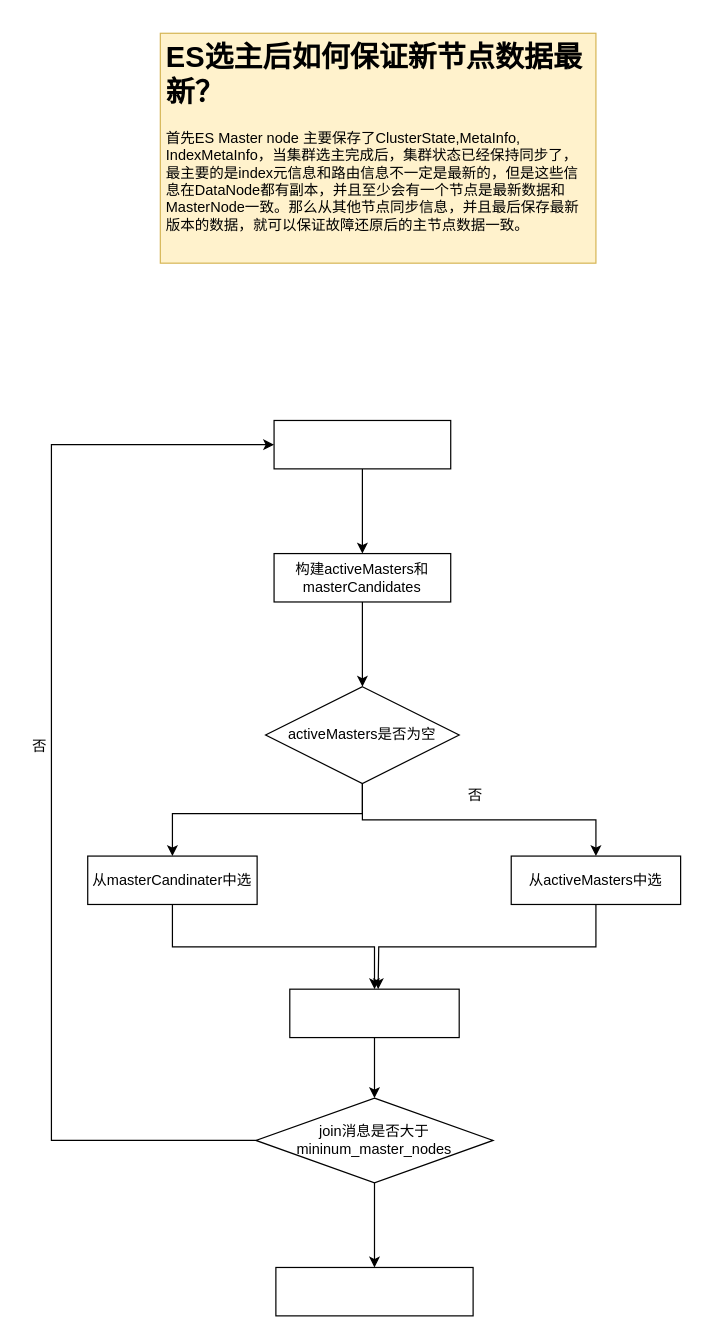
Some shapes in this 702 by 1337 pixel diagram are drawn without their labels. The shapes that lost their labels are listed below. From the top down, each one's box as (x1, y1, x2, y2) in pixels, then its label:
(273, 419, 451, 469): 执行Ping操作，获取节点列表
(289, 988, 459, 1038): 投票通过，等待其他节点join
(275, 1266, 473, 1316): 选主成功
